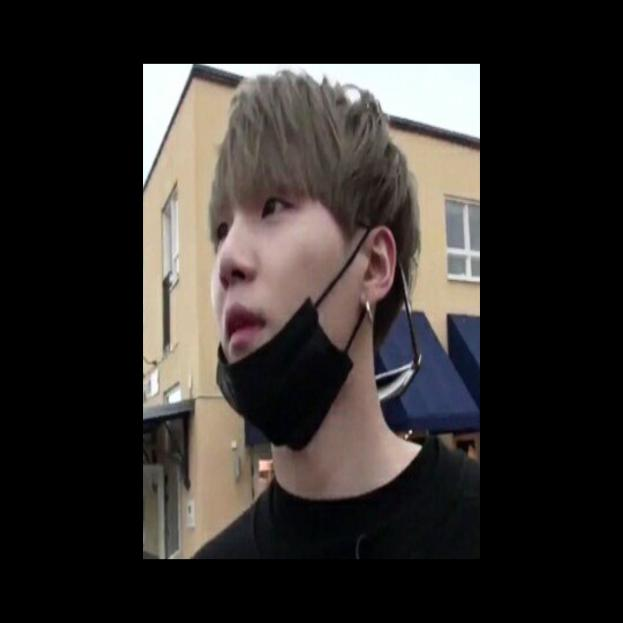mask_weared_incorrect: (208, 207, 348, 405)
